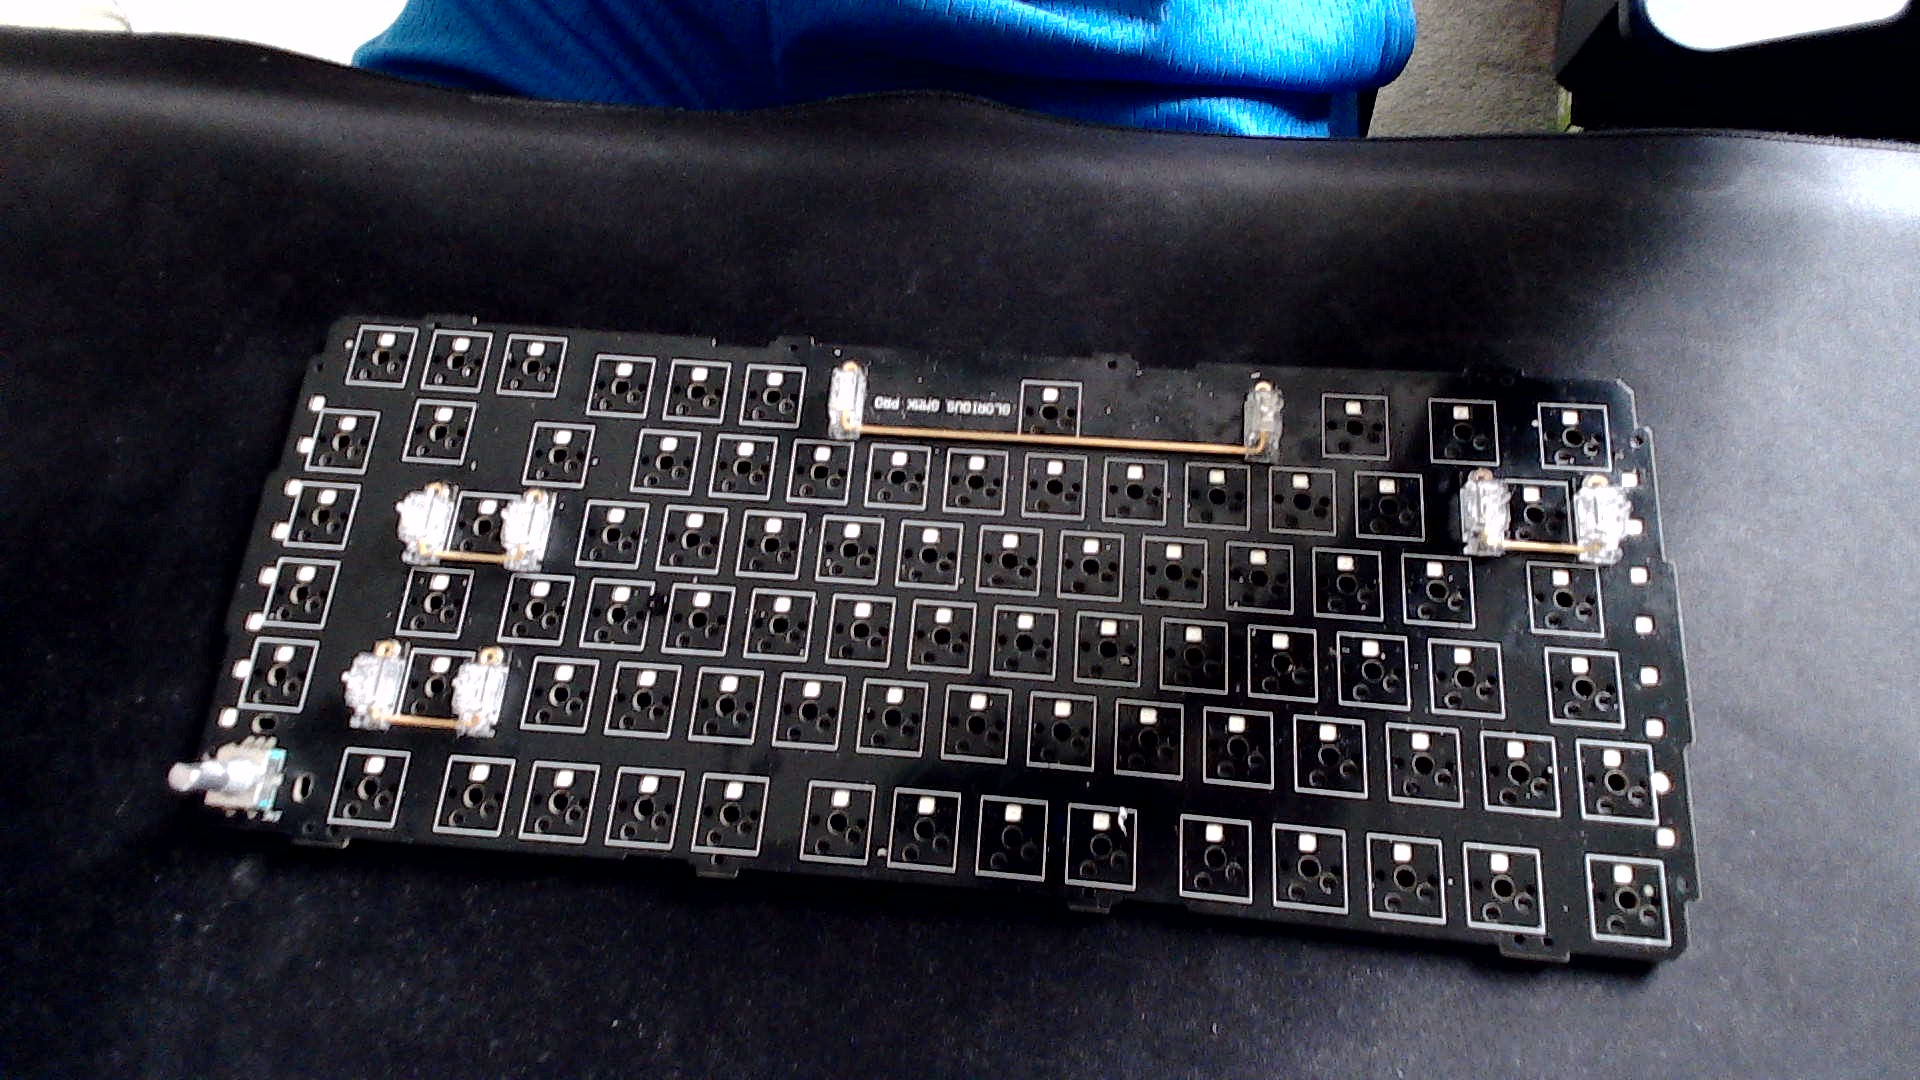pcb: (131, 258, 1717, 1007)
